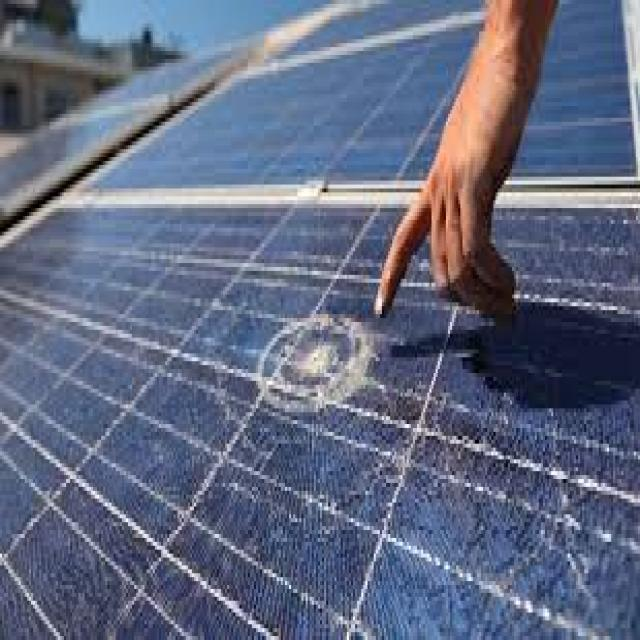faulty: (5, 182, 640, 640)
